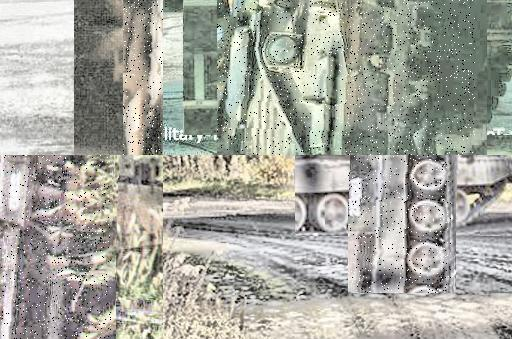tanks: (218, 1, 476, 156), (1, 156, 112, 339), (349, 156, 452, 294), (124, 1, 164, 156)
